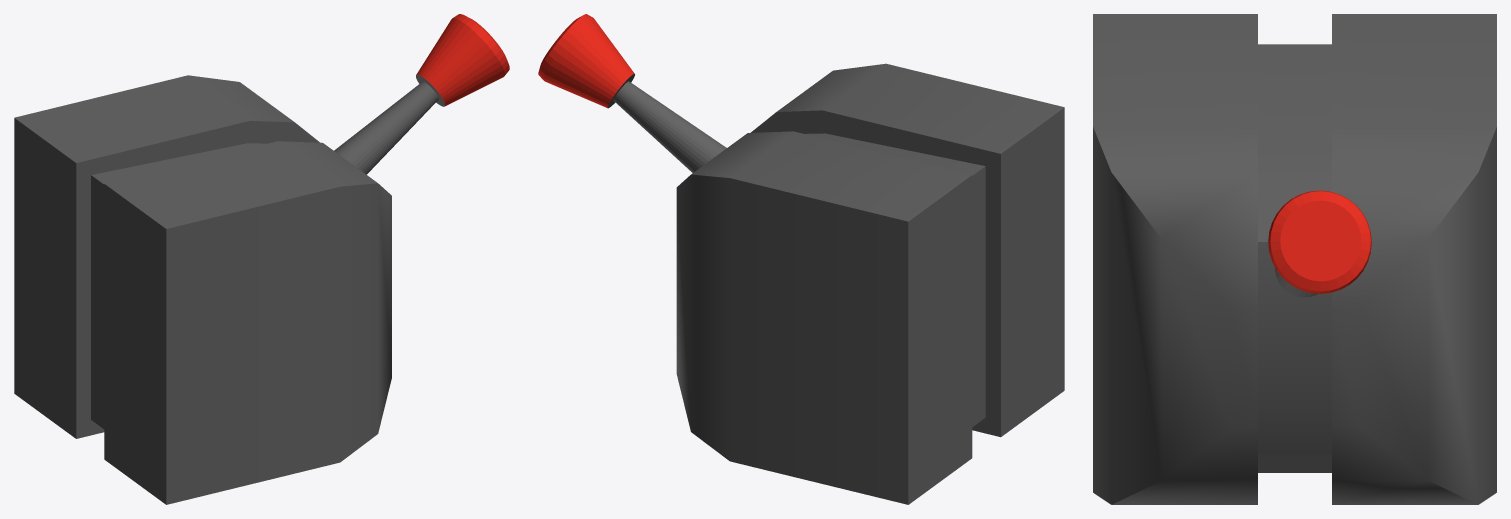
The model's file is palanca_arriba.fbx.
3 views of the same model, side by side, from view 1: azimuth 30°, elevation 25°; view 2: azimuth 150°, elevation 25°; view 3: azimuth 270°, elevation 25° (orthographic). The views are drawn at different scales.
Visible parts, largest first — view 1: Cube.003; view 2: Cube.003; view 3: Cube.003.
Boxes of the visible parts, x1,y1,x2,y2 form: Cube.003: [14, 14, 509, 504]; Cube.003: [538, 14, 1064, 504]; Cube.003: [1093, 14, 1496, 504].
Bounding box in the file's own units: 318 × 240 × 200.
